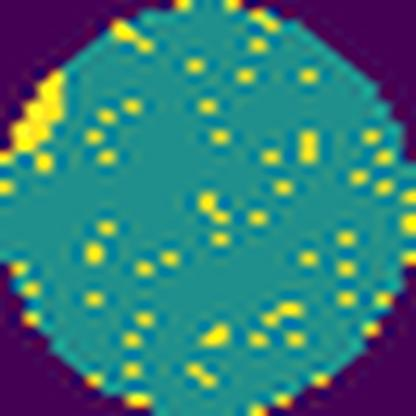Edge-Loc: (4, 67, 69, 165)
